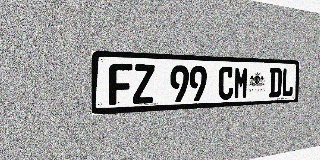9: (170, 65, 189, 102), (189, 65, 207, 101)
C: (218, 66, 234, 100)
D: (269, 68, 282, 97)
F: (109, 63, 132, 105)
L: (281, 68, 294, 97)
M: (234, 67, 249, 99)
Z: (133, 64, 154, 104)
